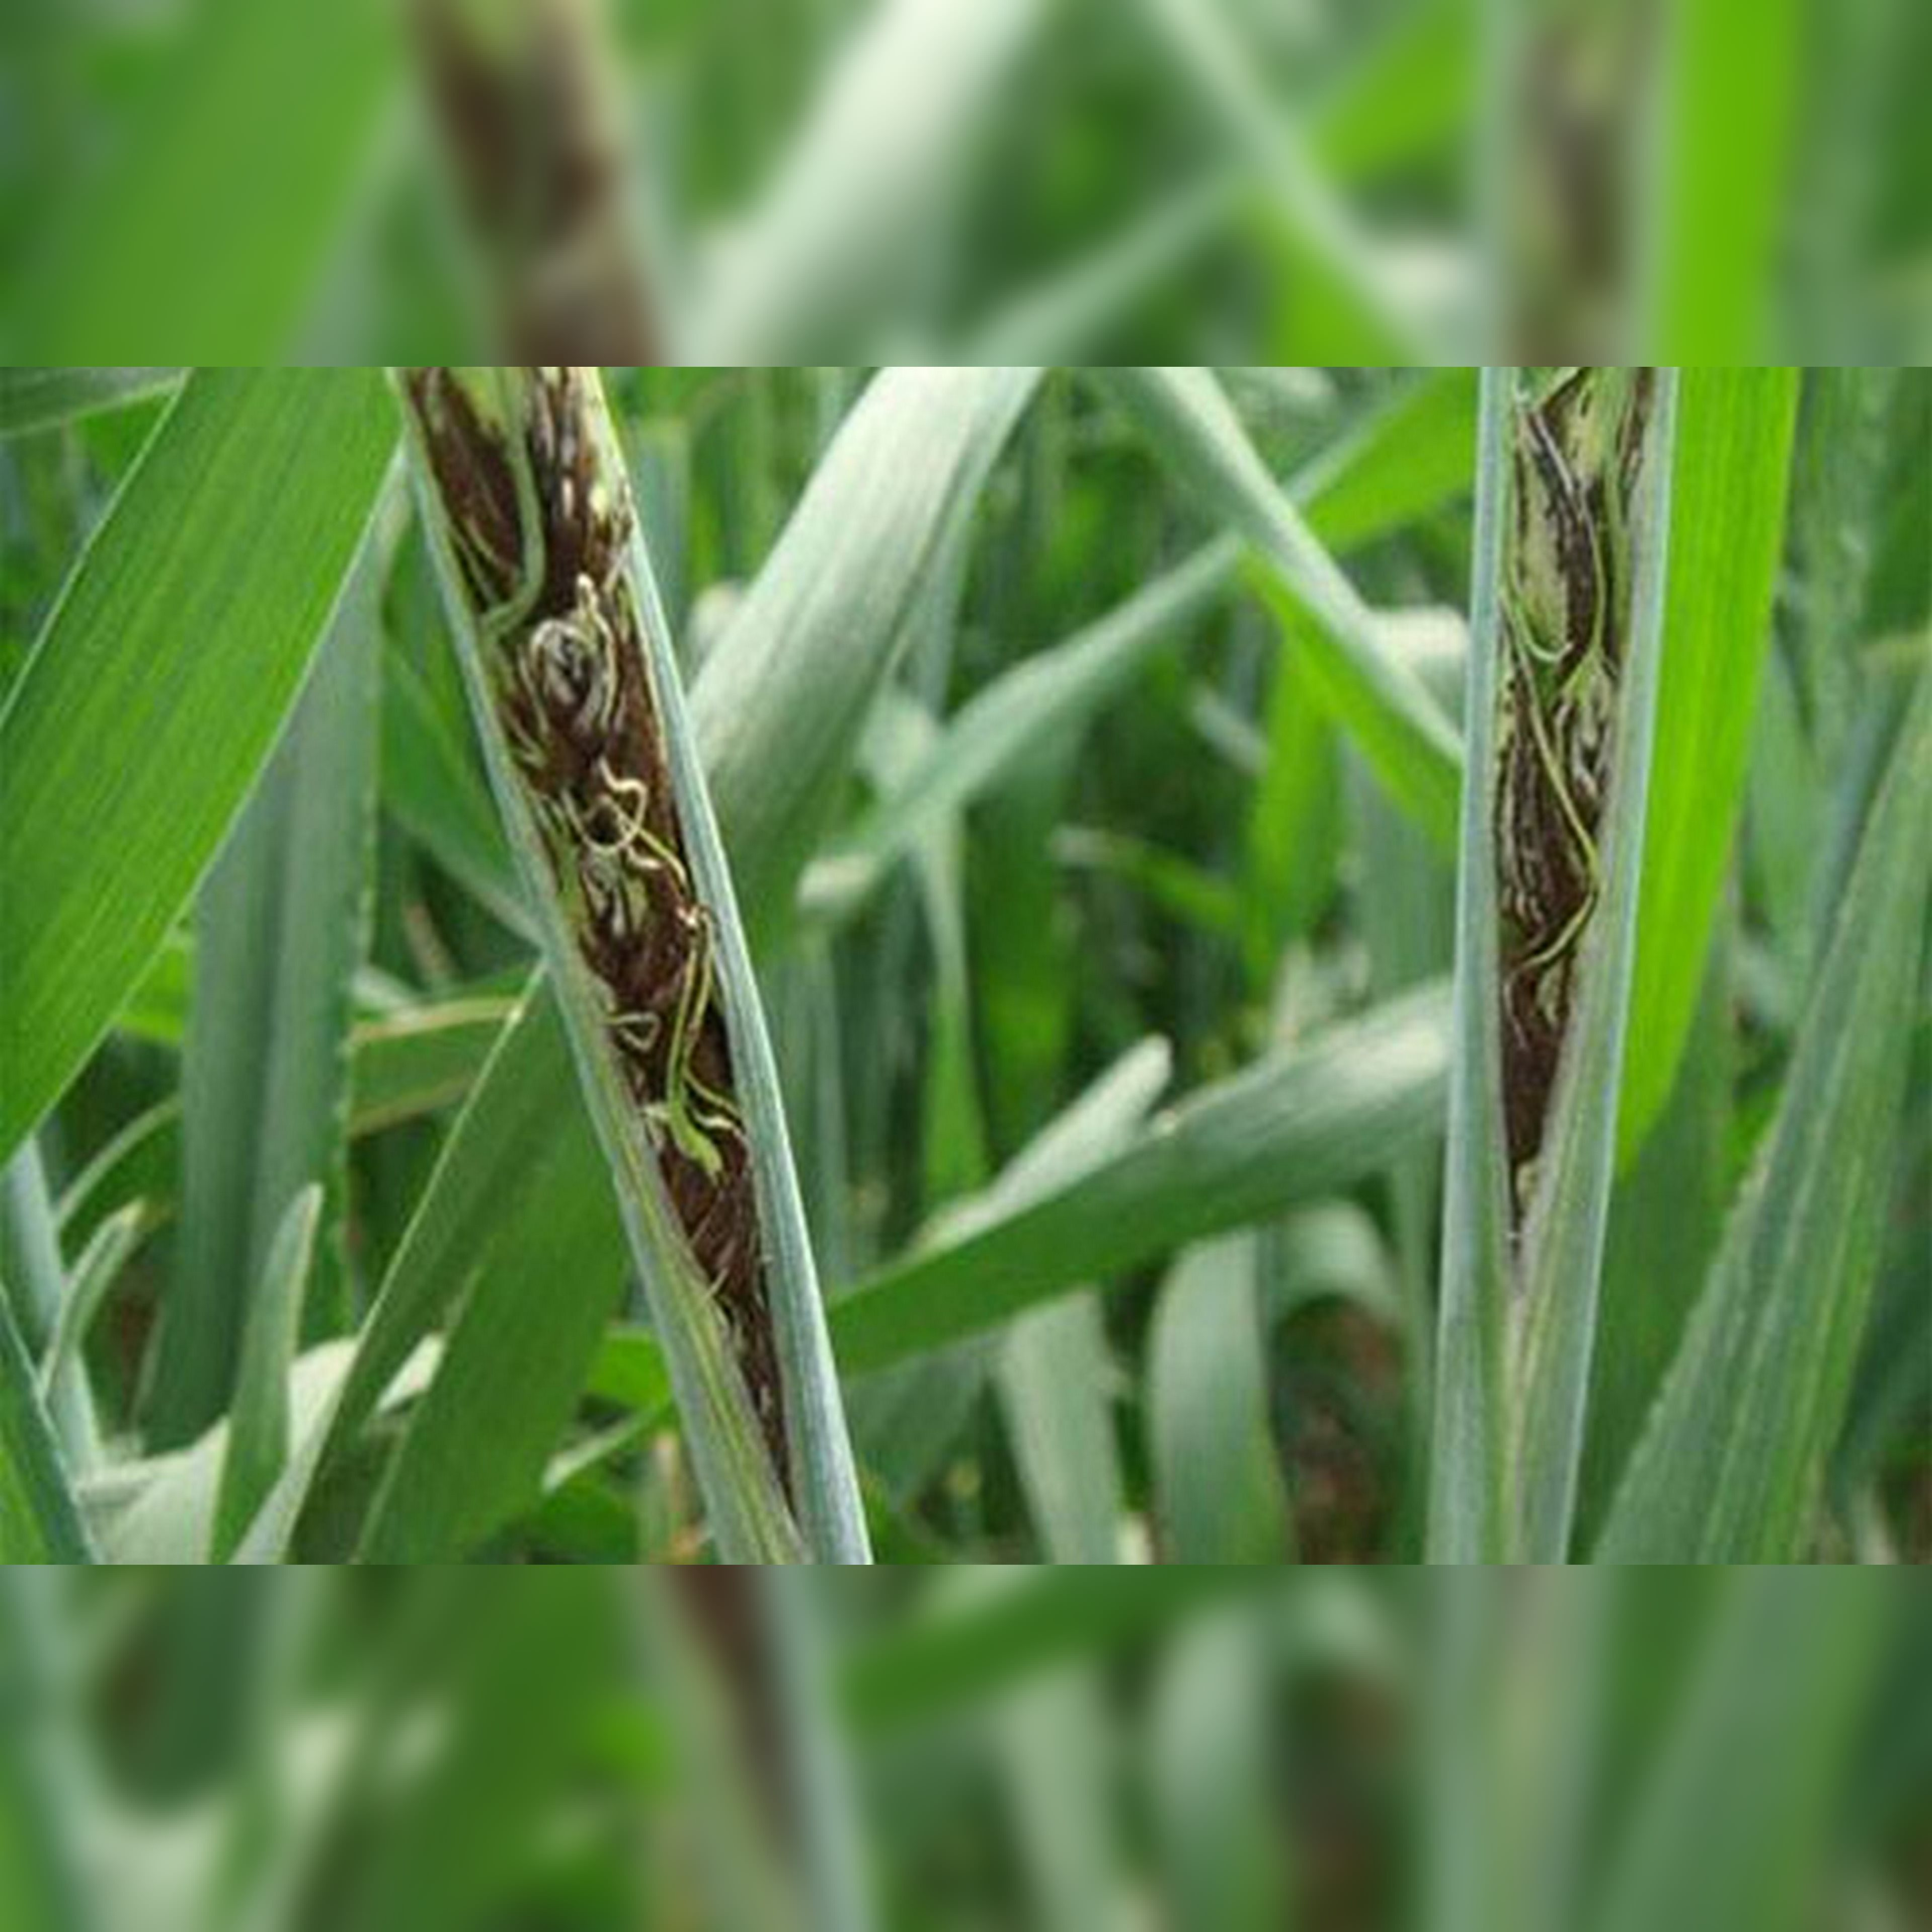Wheat Loose Smut: (400, 402, 899, 1364)
